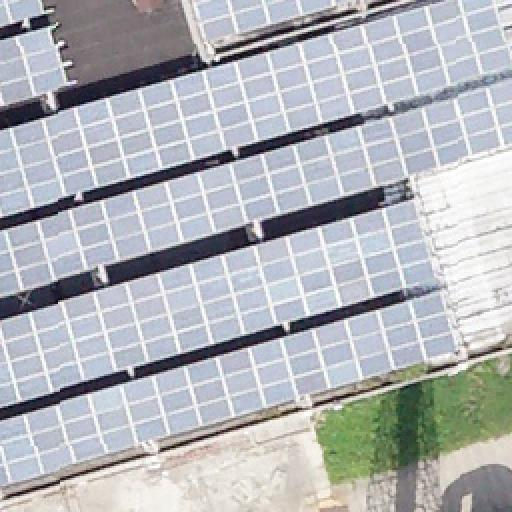solar-panel: (0, 0, 512, 220), (0, 79, 512, 297), (0, 288, 460, 488), (1, 199, 439, 409), (194, 0, 350, 40), (1, 24, 71, 108), (1, 0, 47, 28)
